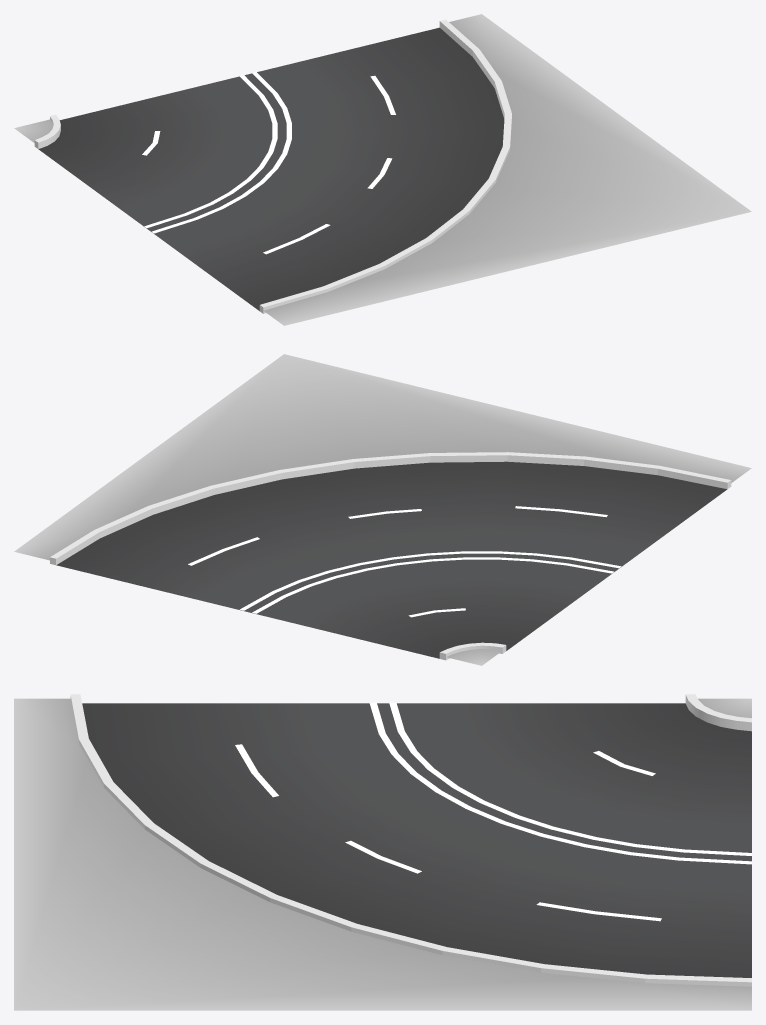
The model's file is road_017.glb.
3 views of the same model, one above another, from view 1: azimuth 30°, elevation 25°; view 2: azimuth 150°, elevation 25°; view 3: azimuth 270°, elevation 25° (orthographic). The views are drawn at different scales.
Visible parts, largest first — view 1: road_017; view 2: road_017; view 3: road_017.
Part boxes in pixels (box(x1,y1,x2,y2)): road_017: box(14, 14, 751, 325); road_017: box(14, 354, 751, 665); road_017: box(14, 694, 751, 1010).
Bounding box in the file's own units: 15 × 0.2 × 15.
Materials: 1 (1 with a texture image).
